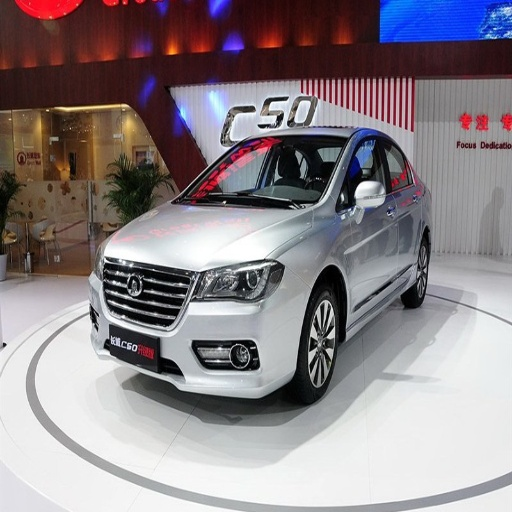front_bumper: (91, 245, 310, 398)
front_glass: (173, 139, 346, 208)
front_left_door: (341, 132, 395, 310)
